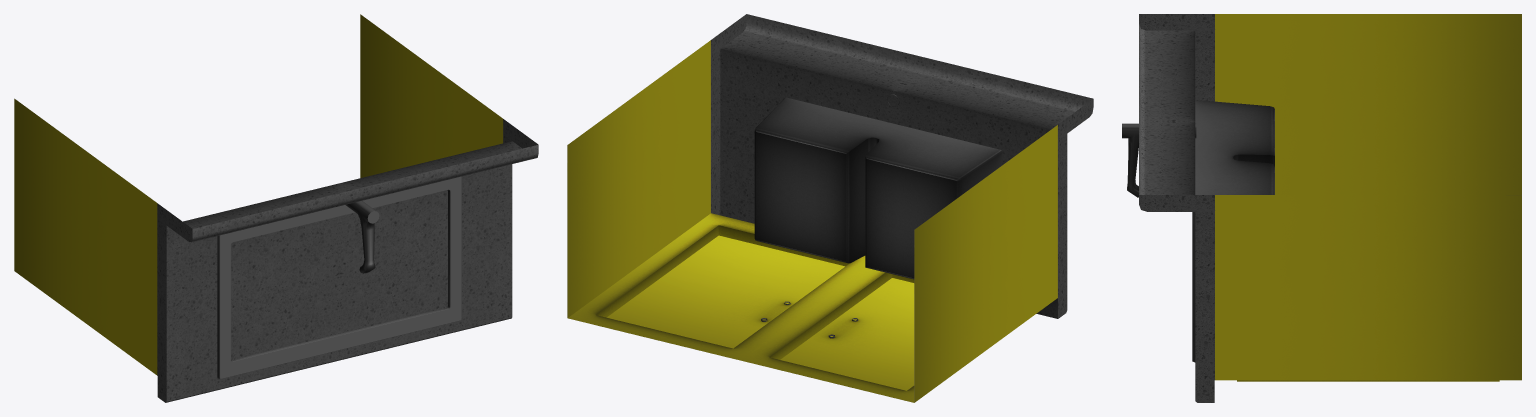
File: cafe_counter.obj
3 renders of one model, left to right at view 1: azimuth 30°, elevation 25°; view 2: azimuth 150°, elevation 25°; view 3: azimuth 270°, elevation 25°, orthographic. The views are drawn at different scales.
Visible parts, largest first — view 1: cafe_counter, cafe_counter_sink; view 2: cafe_counter, cafe_counter_sink; view 3: cafe_counter, cafe_counter_sink.
Part boxes in pixels (box(x1,y1,x2,y2)): cafe_counter: box(14, 14, 538, 402); cafe_counter_sink: box(166, 164, 512, 400); cafe_counter: box(567, 14, 1093, 402); cafe_counter_sink: box(720, 49, 1049, 337); cafe_counter: box(1139, 14, 1521, 402); cafe_counter_sink: box(1122, 100, 1274, 362).
Size of the model in its own units: 120 by 65.84 by 112.
1 material, 1 textured.
